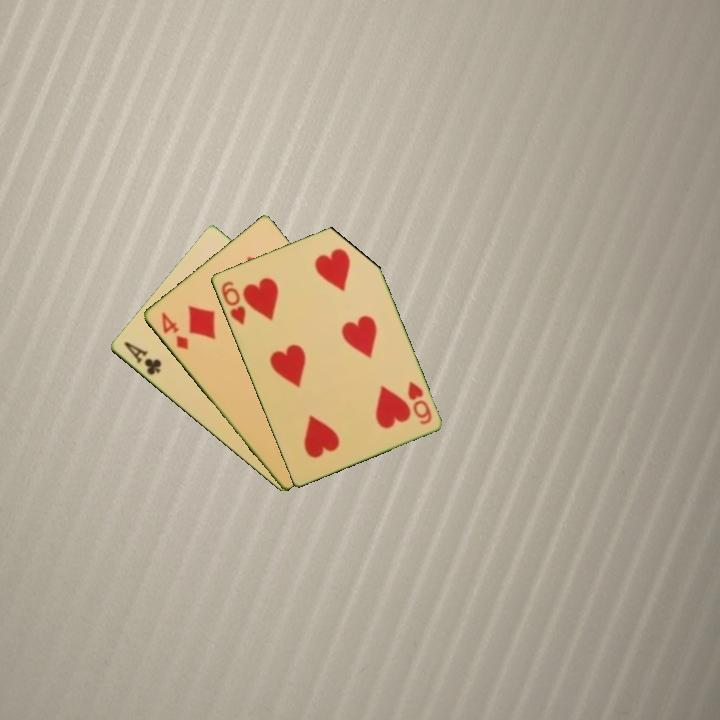4d: (157, 309, 191, 353)
6h: (217, 277, 248, 328), (404, 377, 434, 428)
Ac: (120, 338, 164, 378)
